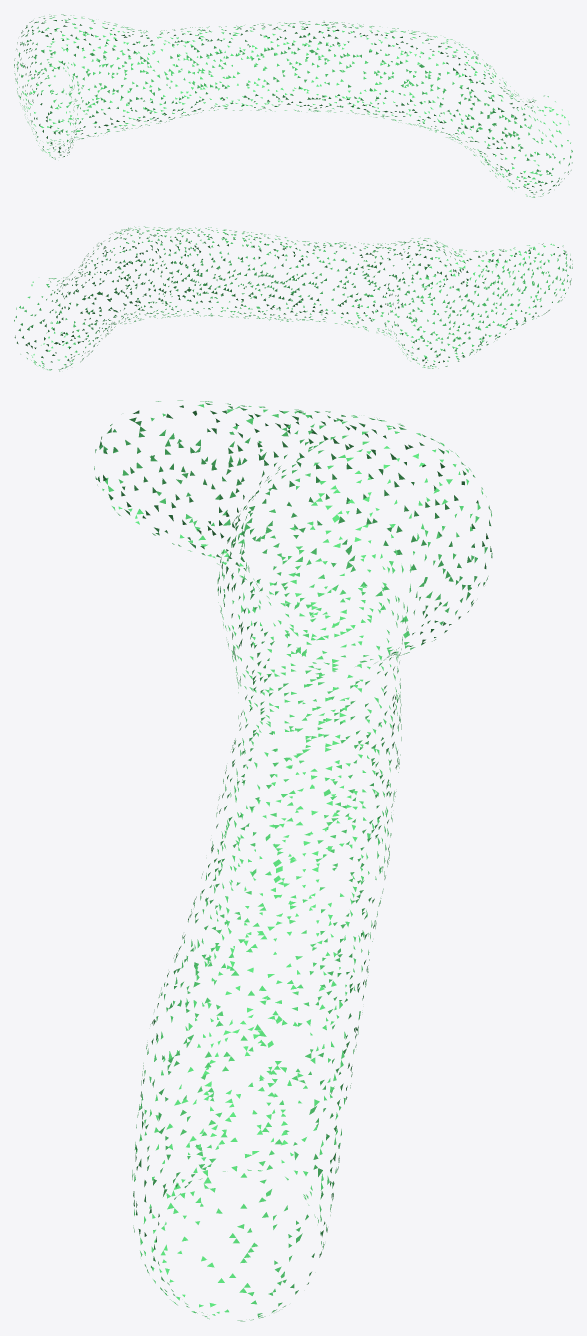
Rendered from morph_020.glb.
3 views of the same model, one above another, from view 1: azimuth 30°, elevation 25°; view 2: azimuth 150°, elevation 25°; view 3: azimuth 270°, elevation 25° (orthographic). The views are drawn at different scales.
Bounding box in the file's own units: 122 × 54.97 × 41.17.
